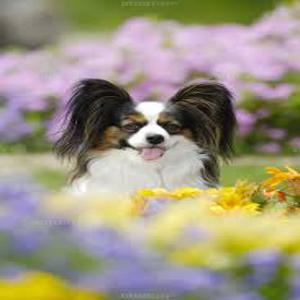yell: (53, 78, 236, 190)
